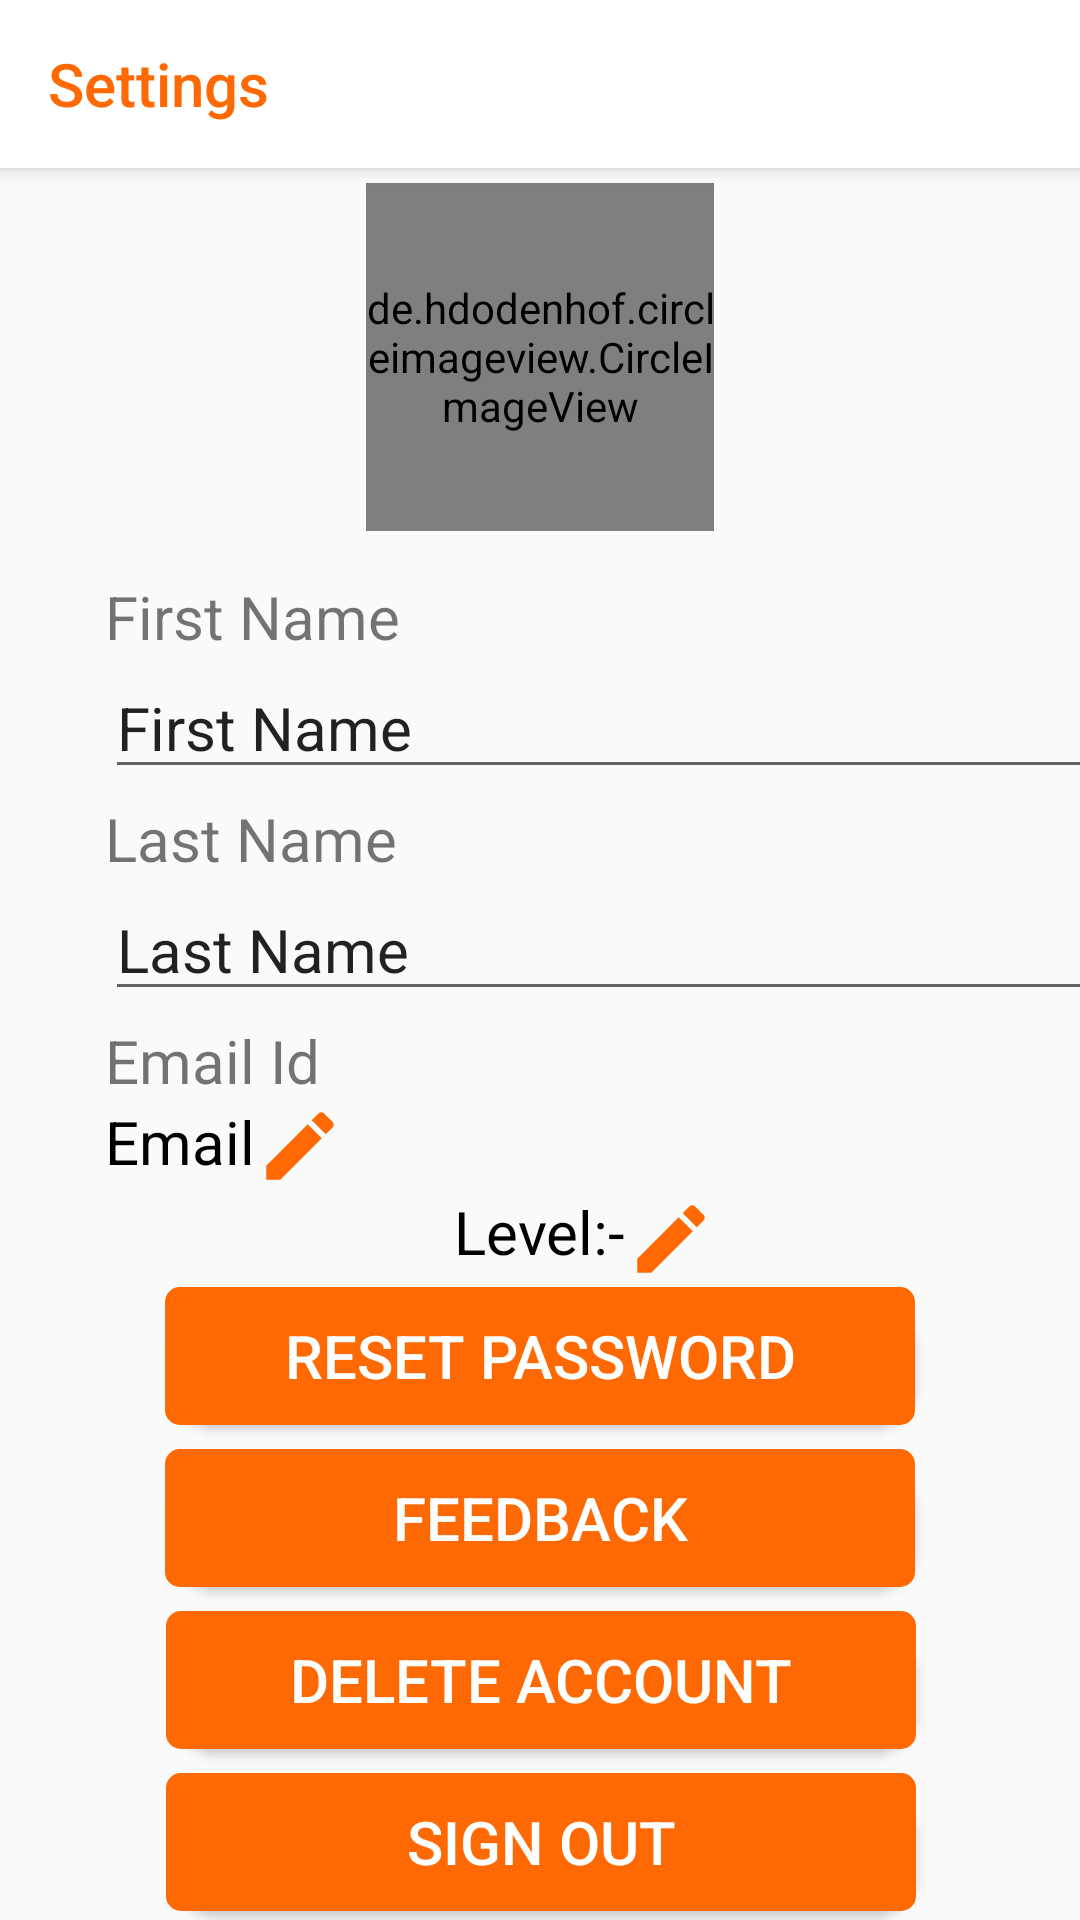

Icons on this 1080×1920 Android screen, each with its box as (x1, y1, x2, y2):
edit: (266, 1112, 334, 1180), (637, 1205, 705, 1273)
